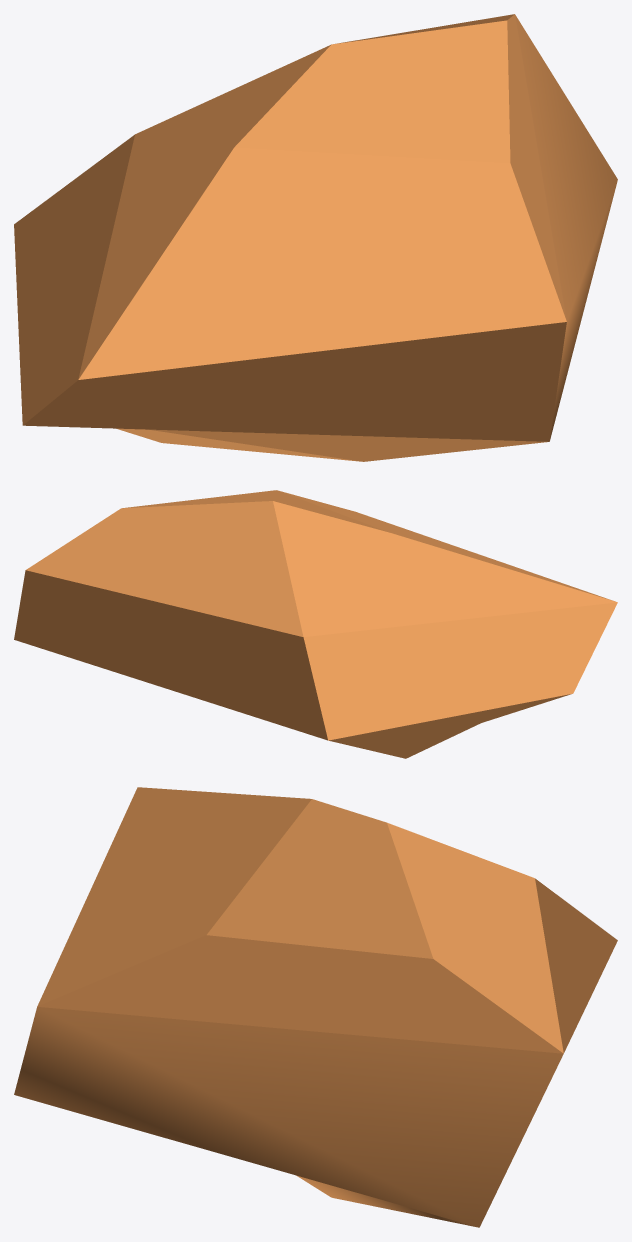
The model's file is SM_SmallRock_7.FBX.
The picture shows the model from 3 angles, top to bottom: view 1: azimuth 30°, elevation 25°; view 2: azimuth 150°, elevation 25°; view 3: azimuth 270°, elevation 25°; orthographic projection. The views are drawn at different scales.
Parts seen in each view (by area): view 1: Rock 7; view 2: Rock 7; view 3: Rock 7.
Part boxes in pixels (bbox=[...]): Rock 7: bbox=[14, 14, 617, 461]; Rock 7: bbox=[14, 490, 617, 758]; Rock 7: bbox=[14, 787, 617, 1227].
Size of the model in its own units: 42.98 by 19.8 by 32.15.
